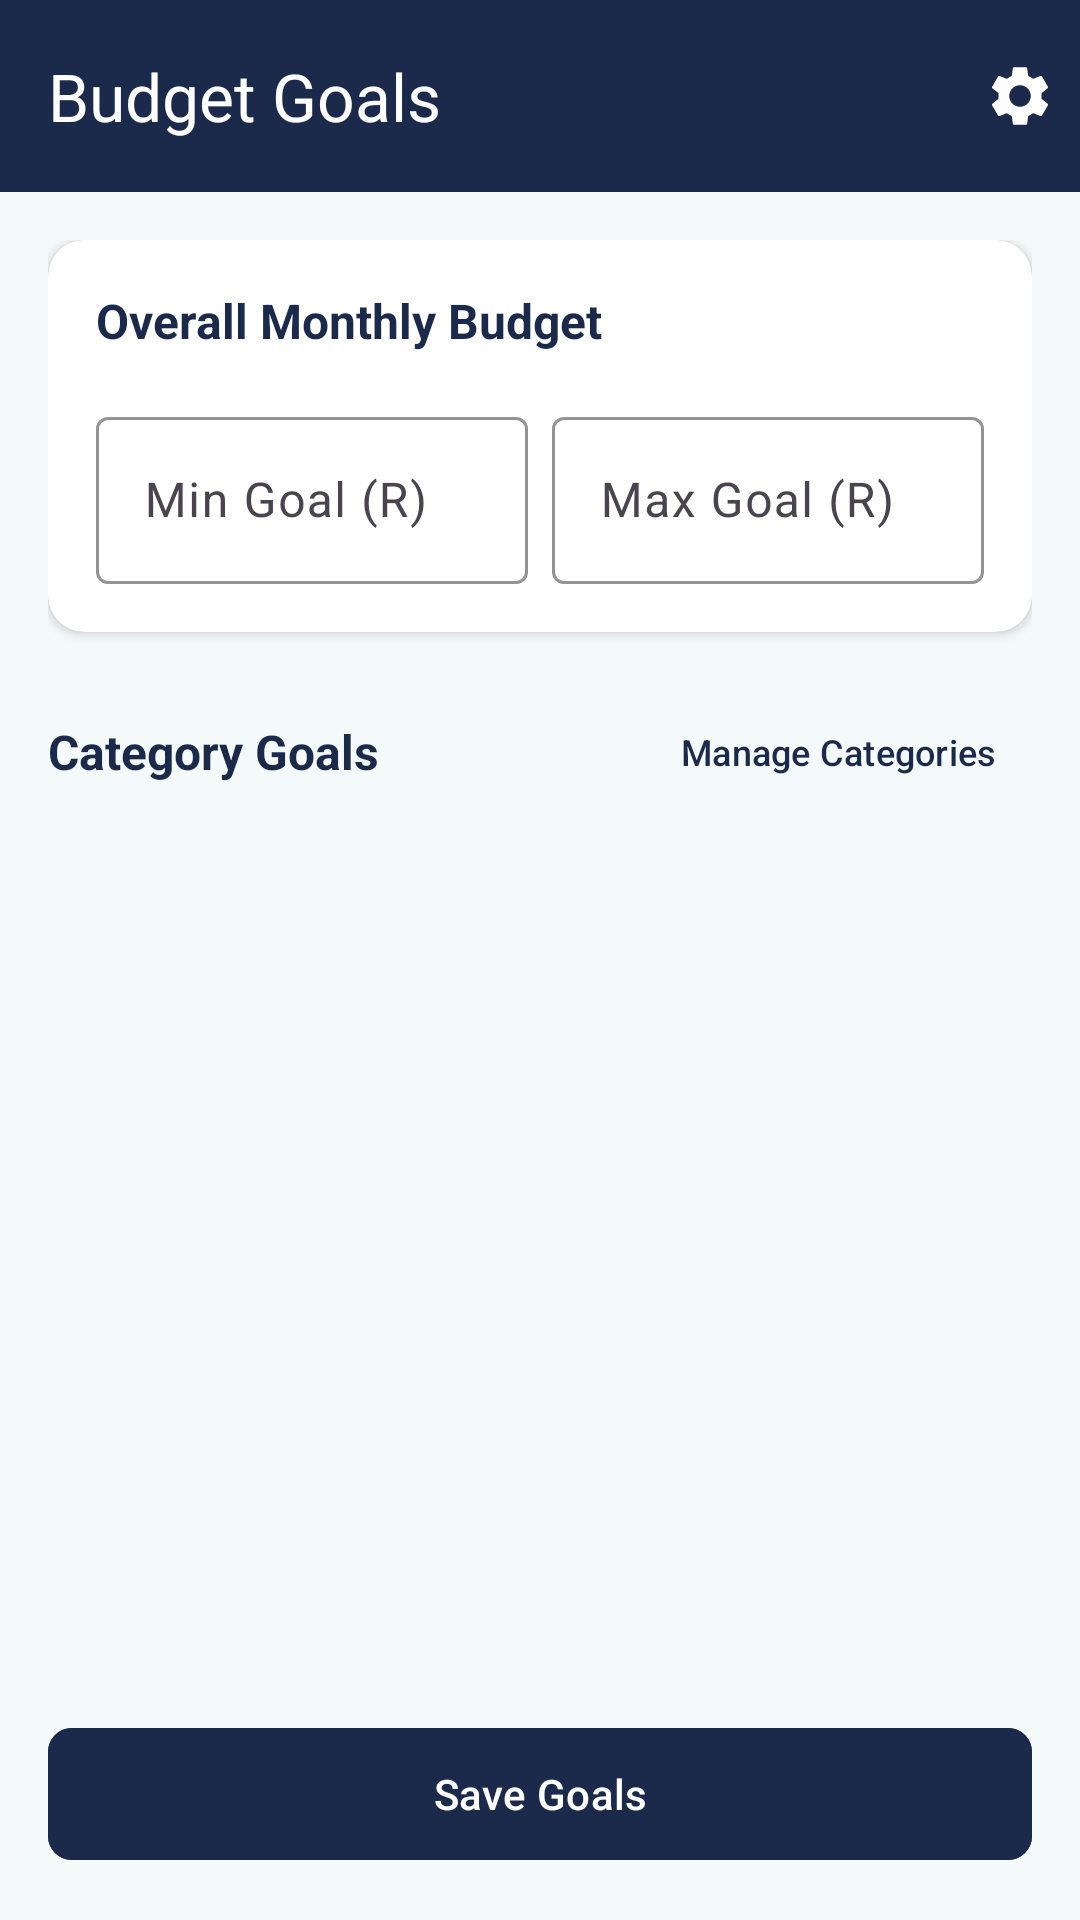

Named icons in this screenshot (1080px x 1920px) and their centers, (x=x, y=y):
Settings: (x=1020, y=96)
